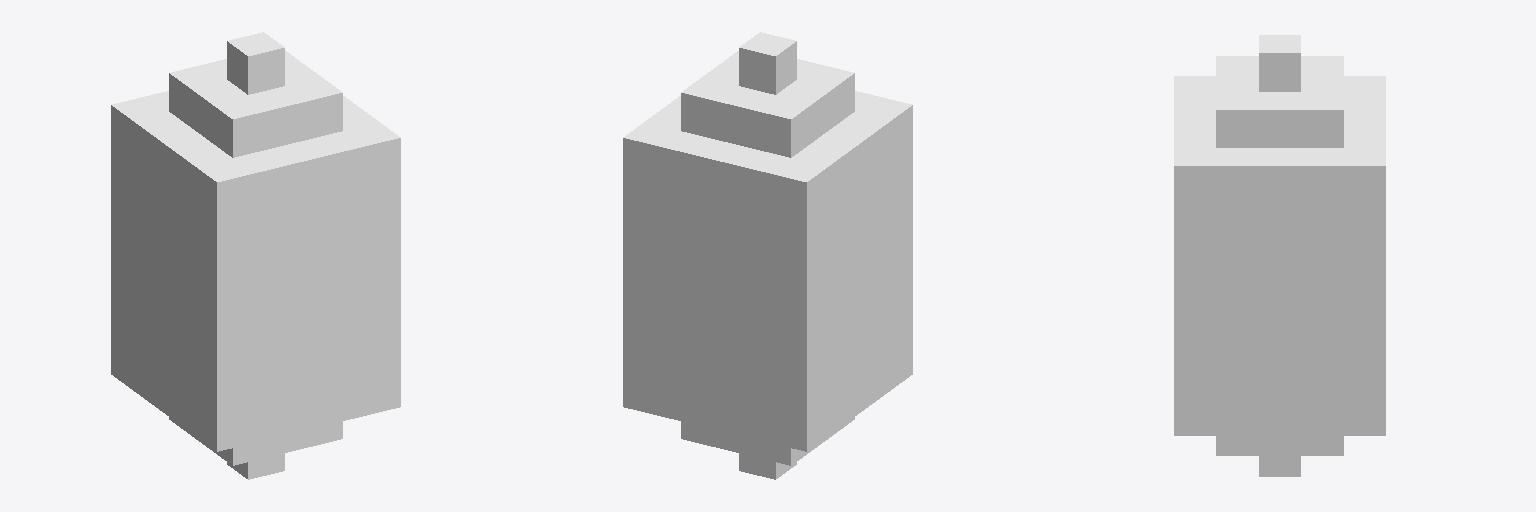
Rendered from jewel.obj.
The picture shows the model from 3 angles: view 1: azimuth 30°, elevation 25°; view 2: azimuth 150°, elevation 25°; view 3: azimuth 270°, elevation 25°; orthographic projection.
Visible parts, largest first — view 1: object 1; view 2: object 1; view 3: object 1.
Boxes of the visible parts, x1,y1,x2,y2 form: object 1: [111, 32, 400, 479]; object 1: [623, 32, 912, 479]; object 1: [1174, 35, 1385, 476].
Size of the model in its own units: 0.5 by 1.1 by 0.5.